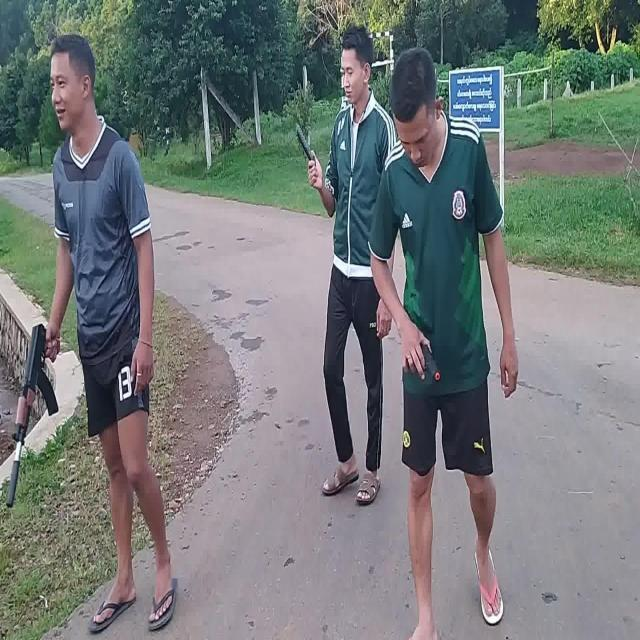gun: (9, 325, 60, 507), (420, 343, 440, 381)
